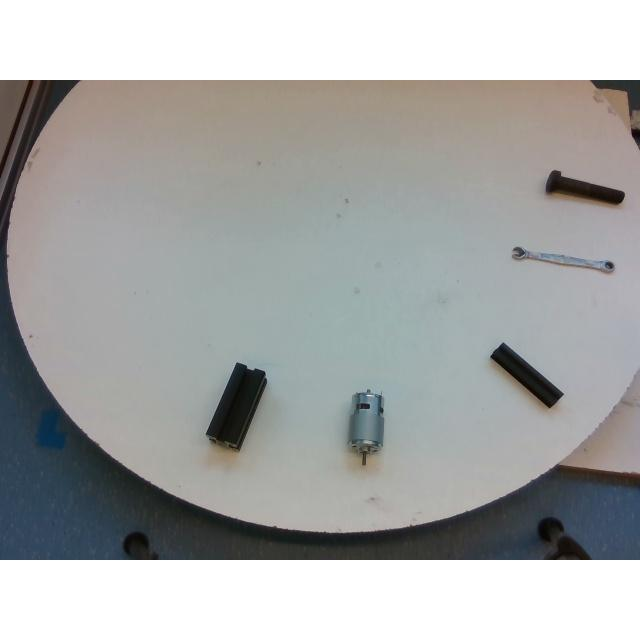F20_20_B: (490, 342, 562, 406)
M20_100: (546, 170, 624, 204)
Motor2: (348, 389, 384, 463)
S40_40_B: (206, 362, 266, 448)
Wrench: (512, 248, 614, 272)
